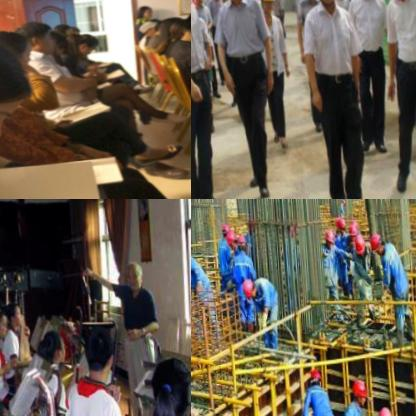head: (140, 349, 191, 416), (74, 325, 113, 377), (0, 27, 34, 69), (15, 20, 54, 55), (32, 328, 63, 367), (67, 29, 100, 56), (2, 297, 20, 333), (119, 259, 141, 288), (0, 304, 5, 340)
helmet: (345, 376, 365, 408), (238, 276, 255, 299), (319, 225, 333, 250), (349, 233, 364, 256), (256, 0, 275, 18), (304, 367, 319, 389), (366, 230, 381, 252), (223, 228, 236, 251), (370, 402, 389, 416), (191, 0, 204, 7)
